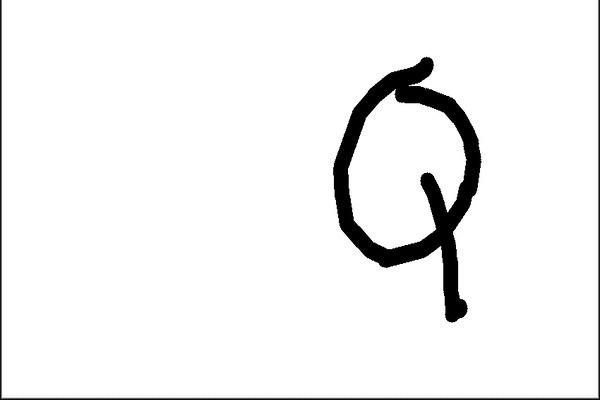Q: (323, 51, 503, 328)
